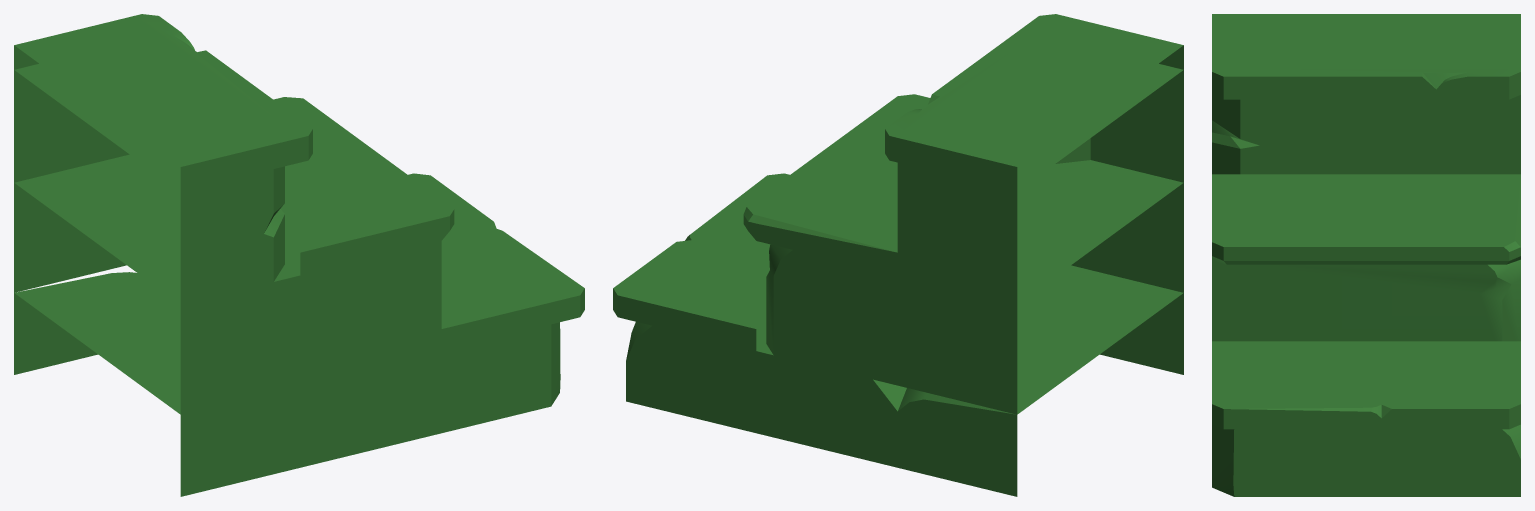
The model's file is OBJ_Stairs_02.FBX.
3 views of the same model, side by side, from view 1: azimuth 30°, elevation 25°; view 2: azimuth 150°, elevation 25°; view 3: azimuth 270°, elevation 25° (orthographic). The views are drawn at different scales.
Visible parts, largest first — view 1: OBJ_Stairs_02; view 2: OBJ_Stairs_02; view 3: OBJ_Stairs_02.
Part boxes in pixels (box(x1,y1,x2,y2)): OBJ_Stairs_02: box(14, 14, 584, 496); OBJ_Stairs_02: box(613, 14, 1183, 496); OBJ_Stairs_02: box(1212, 14, 1520, 496).
Bounding box in the file's own units: 18.88 × 14.5 × 13.27.
